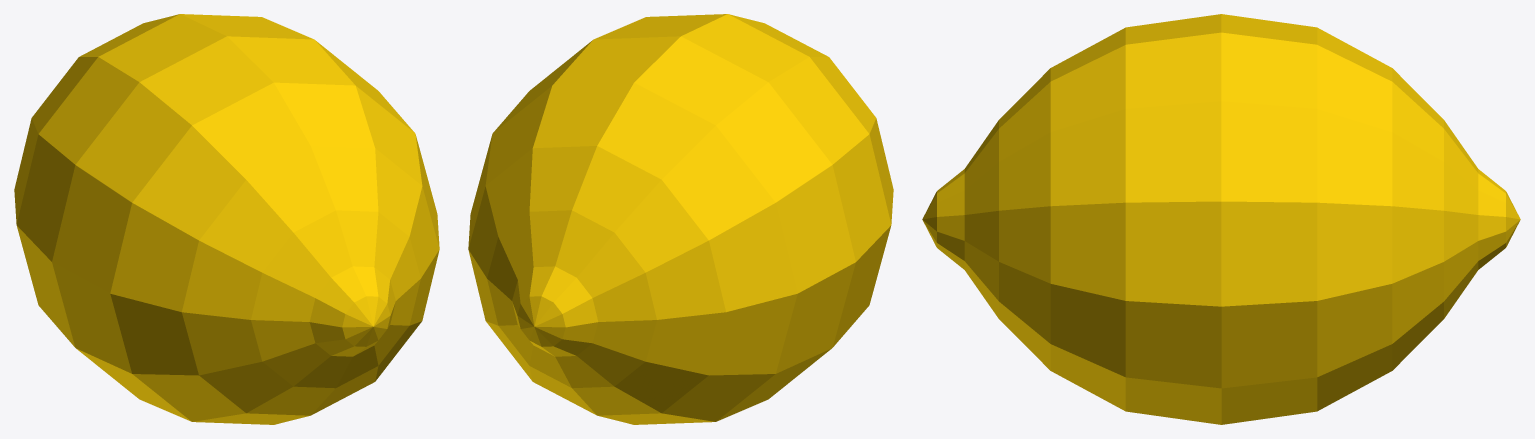
File: lemon.glb
3 views of the same model, side by side, from view 1: azimuth 30°, elevation 25°; view 2: azimuth 150°, elevation 25°; view 3: azimuth 270°, elevation 25° (orthographic). The views are drawn at different scales.
Visible parts, largest first — view 1: lemon; view 2: lemon; view 3: lemon.
Part boxes in pixels (<box>): lemon: <box>14,14,439,424</box>; lemon: <box>468,14,893,424</box>; lemon: <box>922,14,1520,424</box>.
Bounding box in the file's own units: 0.8269 × 0.8269 × 1.2.
Materials: 1 (1 with a texture image).
